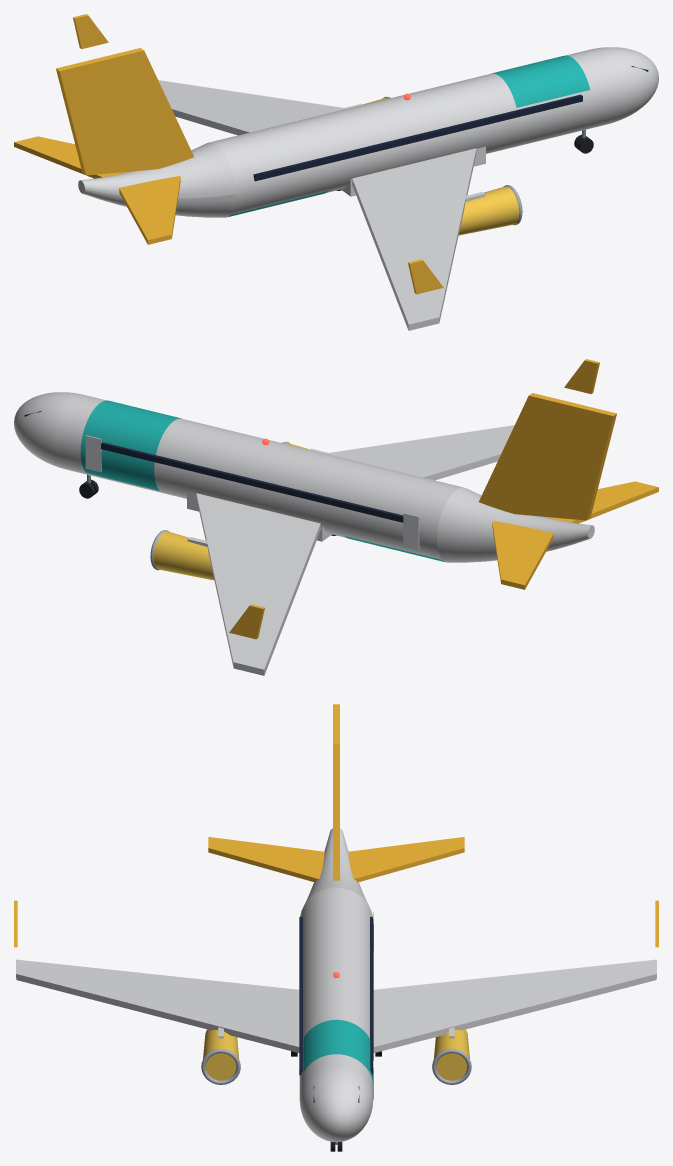
The model's file is airliner-teal.glb.
3 views of the same model, one above another, from view 1: azimuth 30°, elevation 25°; view 2: azimuth 150°, elevation 25°; view 3: azimuth 270°, elevation 25° (orthographic). The views are drawn at different scales.
Parts seen in each view (by area): view 1: Fuselage, WingR, Fin, TailCone, WingL, LiveryBand, StabR, Nose, Windows, NacelleR, Winglet (×2), StabL; view 2: Fuselage, WingL, Fin, TailCone, WingR, LiveryBand, StabL, Nose, Windows, NacelleL, Winglet (×2), StabR (+1 smaller); view 3: WingR, WingL, Fuselage, Nose, StabR, StabL, LiveryBand, TailCone, NacelleR, NacelleL, Fin, Windows.
Boxes of the visible parts, x1,y1,x2,y2 form: Fuselage: (209, 49, 616, 216); WingR: (352, 148, 476, 330); Fin: (56, 48, 193, 175); TailCone: (81, 142, 235, 217); WingL: (158, 80, 347, 135); LiveryBand: (491, 55, 590, 107); StabR: (119, 176, 180, 244); Nose: (589, 47, 658, 123); Windows: (253, 94, 582, 181); NacelleR: (458, 186, 519, 235); Winglet (×2): (73, 14, 443, 294); StabL: (14, 136, 129, 178); Fuselage: (56, 394, 463, 561); WingL: (196, 493, 320, 675); Fin: (479, 393, 616, 520); TailCone: (437, 487, 591, 562); WingR: (325, 425, 514, 480); LiveryBand: (80, 400, 181, 490); StabL: (492, 521, 553, 589); Nose: (14, 392, 83, 468); Windows: (101, 442, 419, 522); NacelleL: (153, 531, 214, 580); Winglet (×2): (229, 359, 599, 639); StabR: (543, 481, 658, 523); WingR: (16, 959, 299, 1052); WingL: (373, 959, 656, 1052); Fuselage: (299, 888, 373, 1097); Nose: (299, 1066, 373, 1142); StabR: (208, 837, 324, 882); StabL: (348, 837, 464, 882); LiveryBand: (303, 1019, 373, 1083); TailCone: (304, 828, 368, 904); NacelleR: (203, 1029, 239, 1080); NacelleL: (433, 1029, 469, 1080); Fin: (333, 704, 339, 880); Windows: (299, 917, 373, 1075).
Size of the model in its own units: 35.05 by 11.75 by 34.2.
